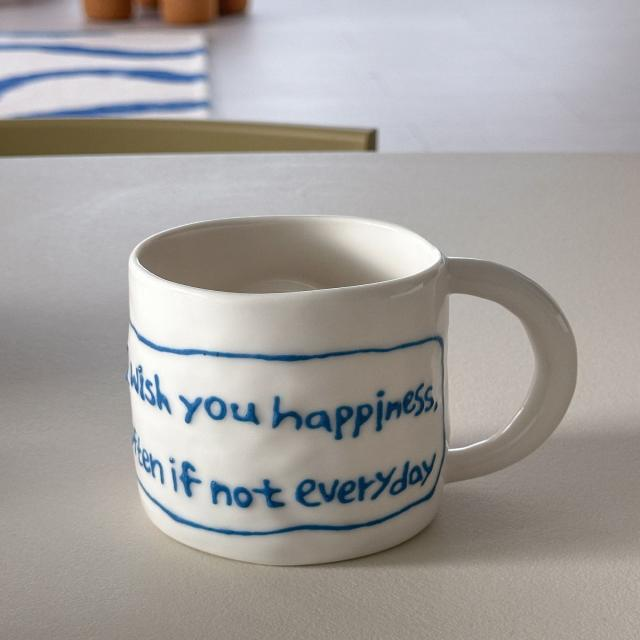glass cup: (129, 216, 577, 567)
